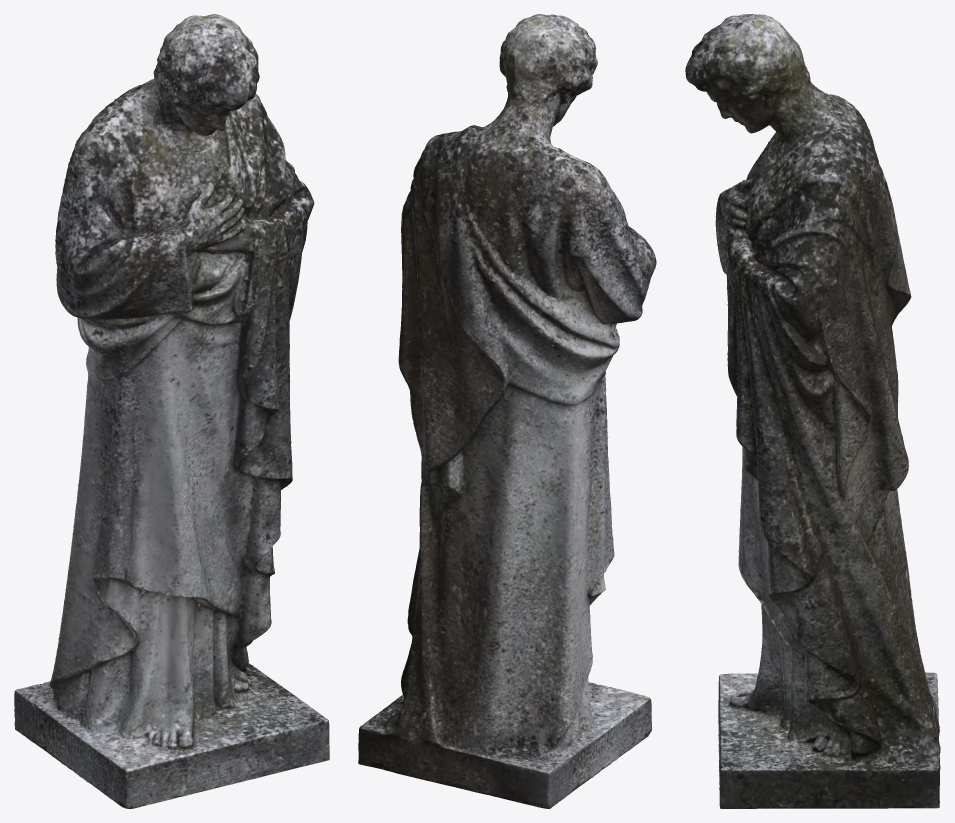
Rendered from hl._alexius.glb.
3 renders of one model, left to right at view 1: azimuth 30°, elevation 25°; view 2: azimuth 150°, elevation 25°; view 3: azimuth 270°, elevation 25°, orthographic. The views are drawn at different scales.
Parts seen in each view (by area): view 1: Object_2; view 2: Object_2; view 3: Object_2.
Boxes of the visible parts, <box> form: Object_2: <box>14,14,329,808</box>; Object_2: <box>358,14,656,808</box>; Object_2: <box>685,14,940,808</box>.
Bounding box in the file's own units: 0.6793 × 1.92 × 0.6015.
Materials: 2 (1 with a texture image).
